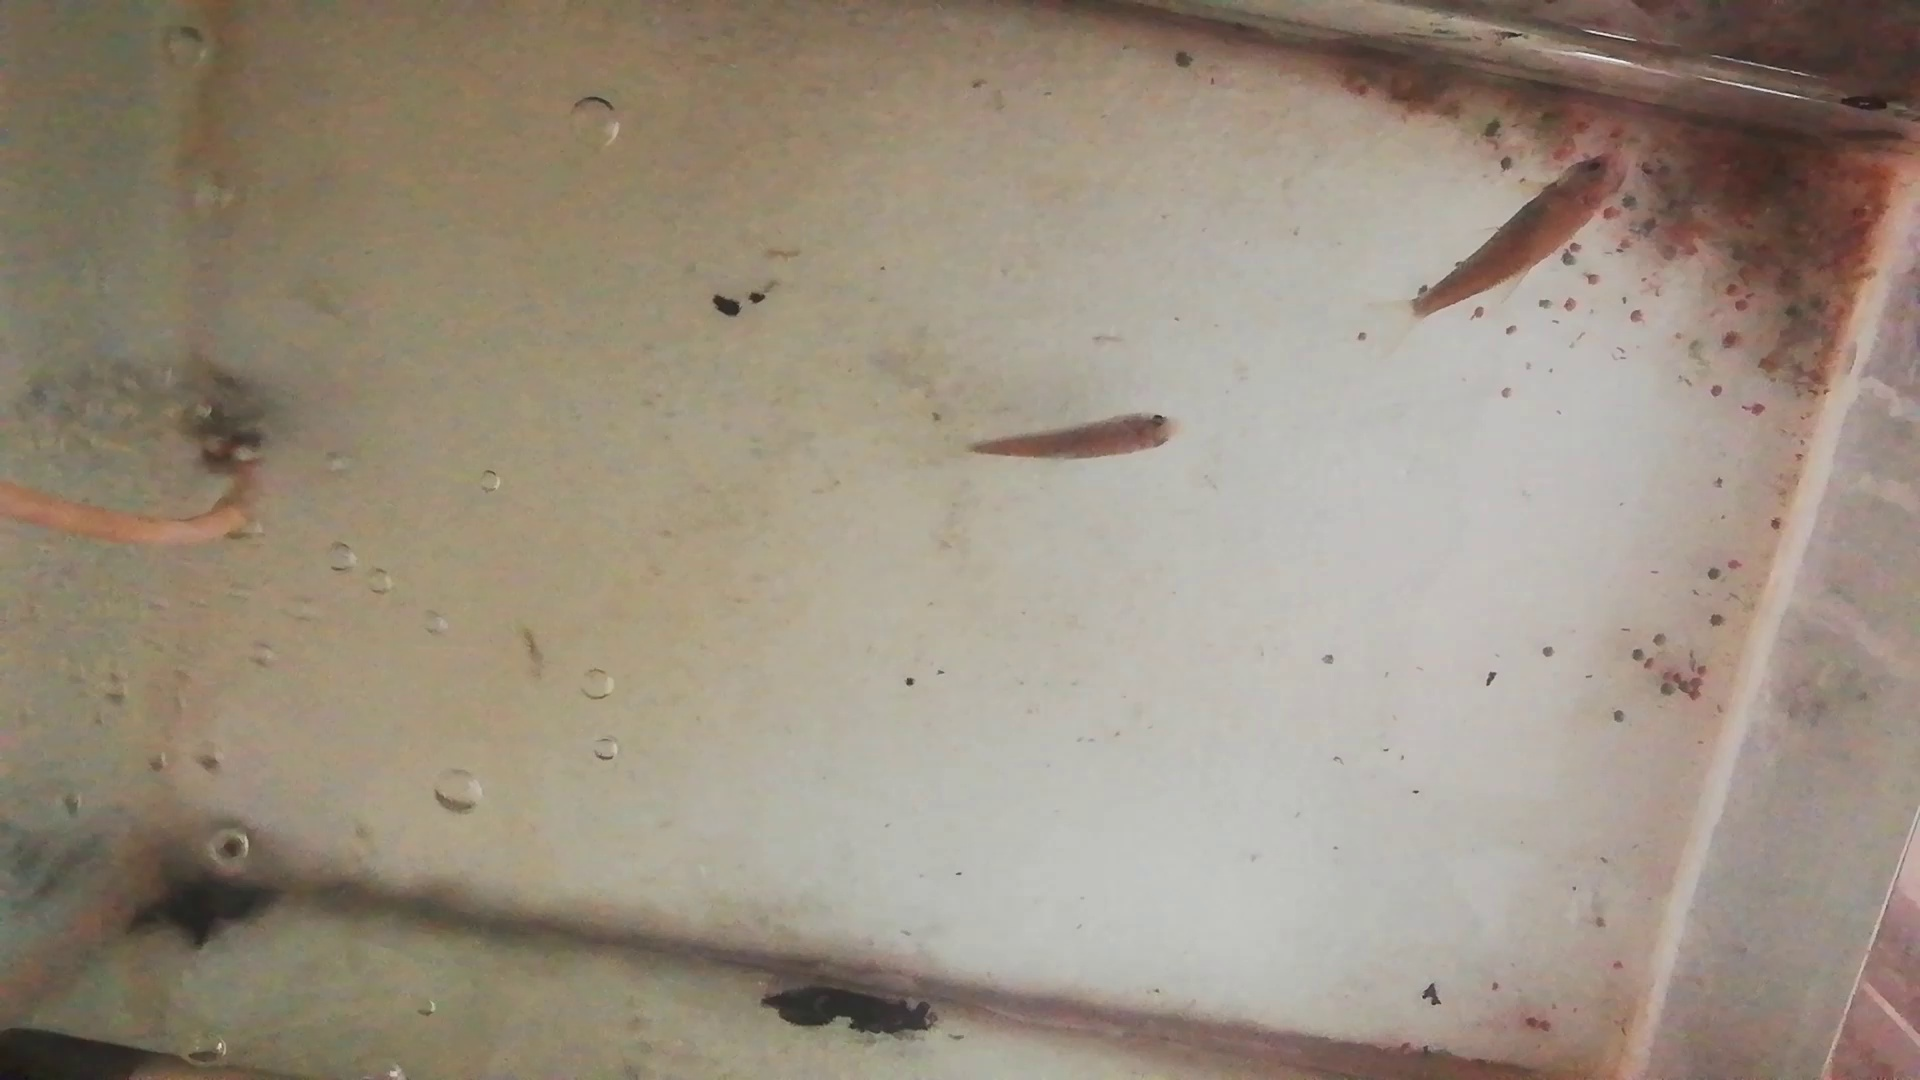fish: (1424, 152, 1633, 313), (969, 411, 1187, 463)
